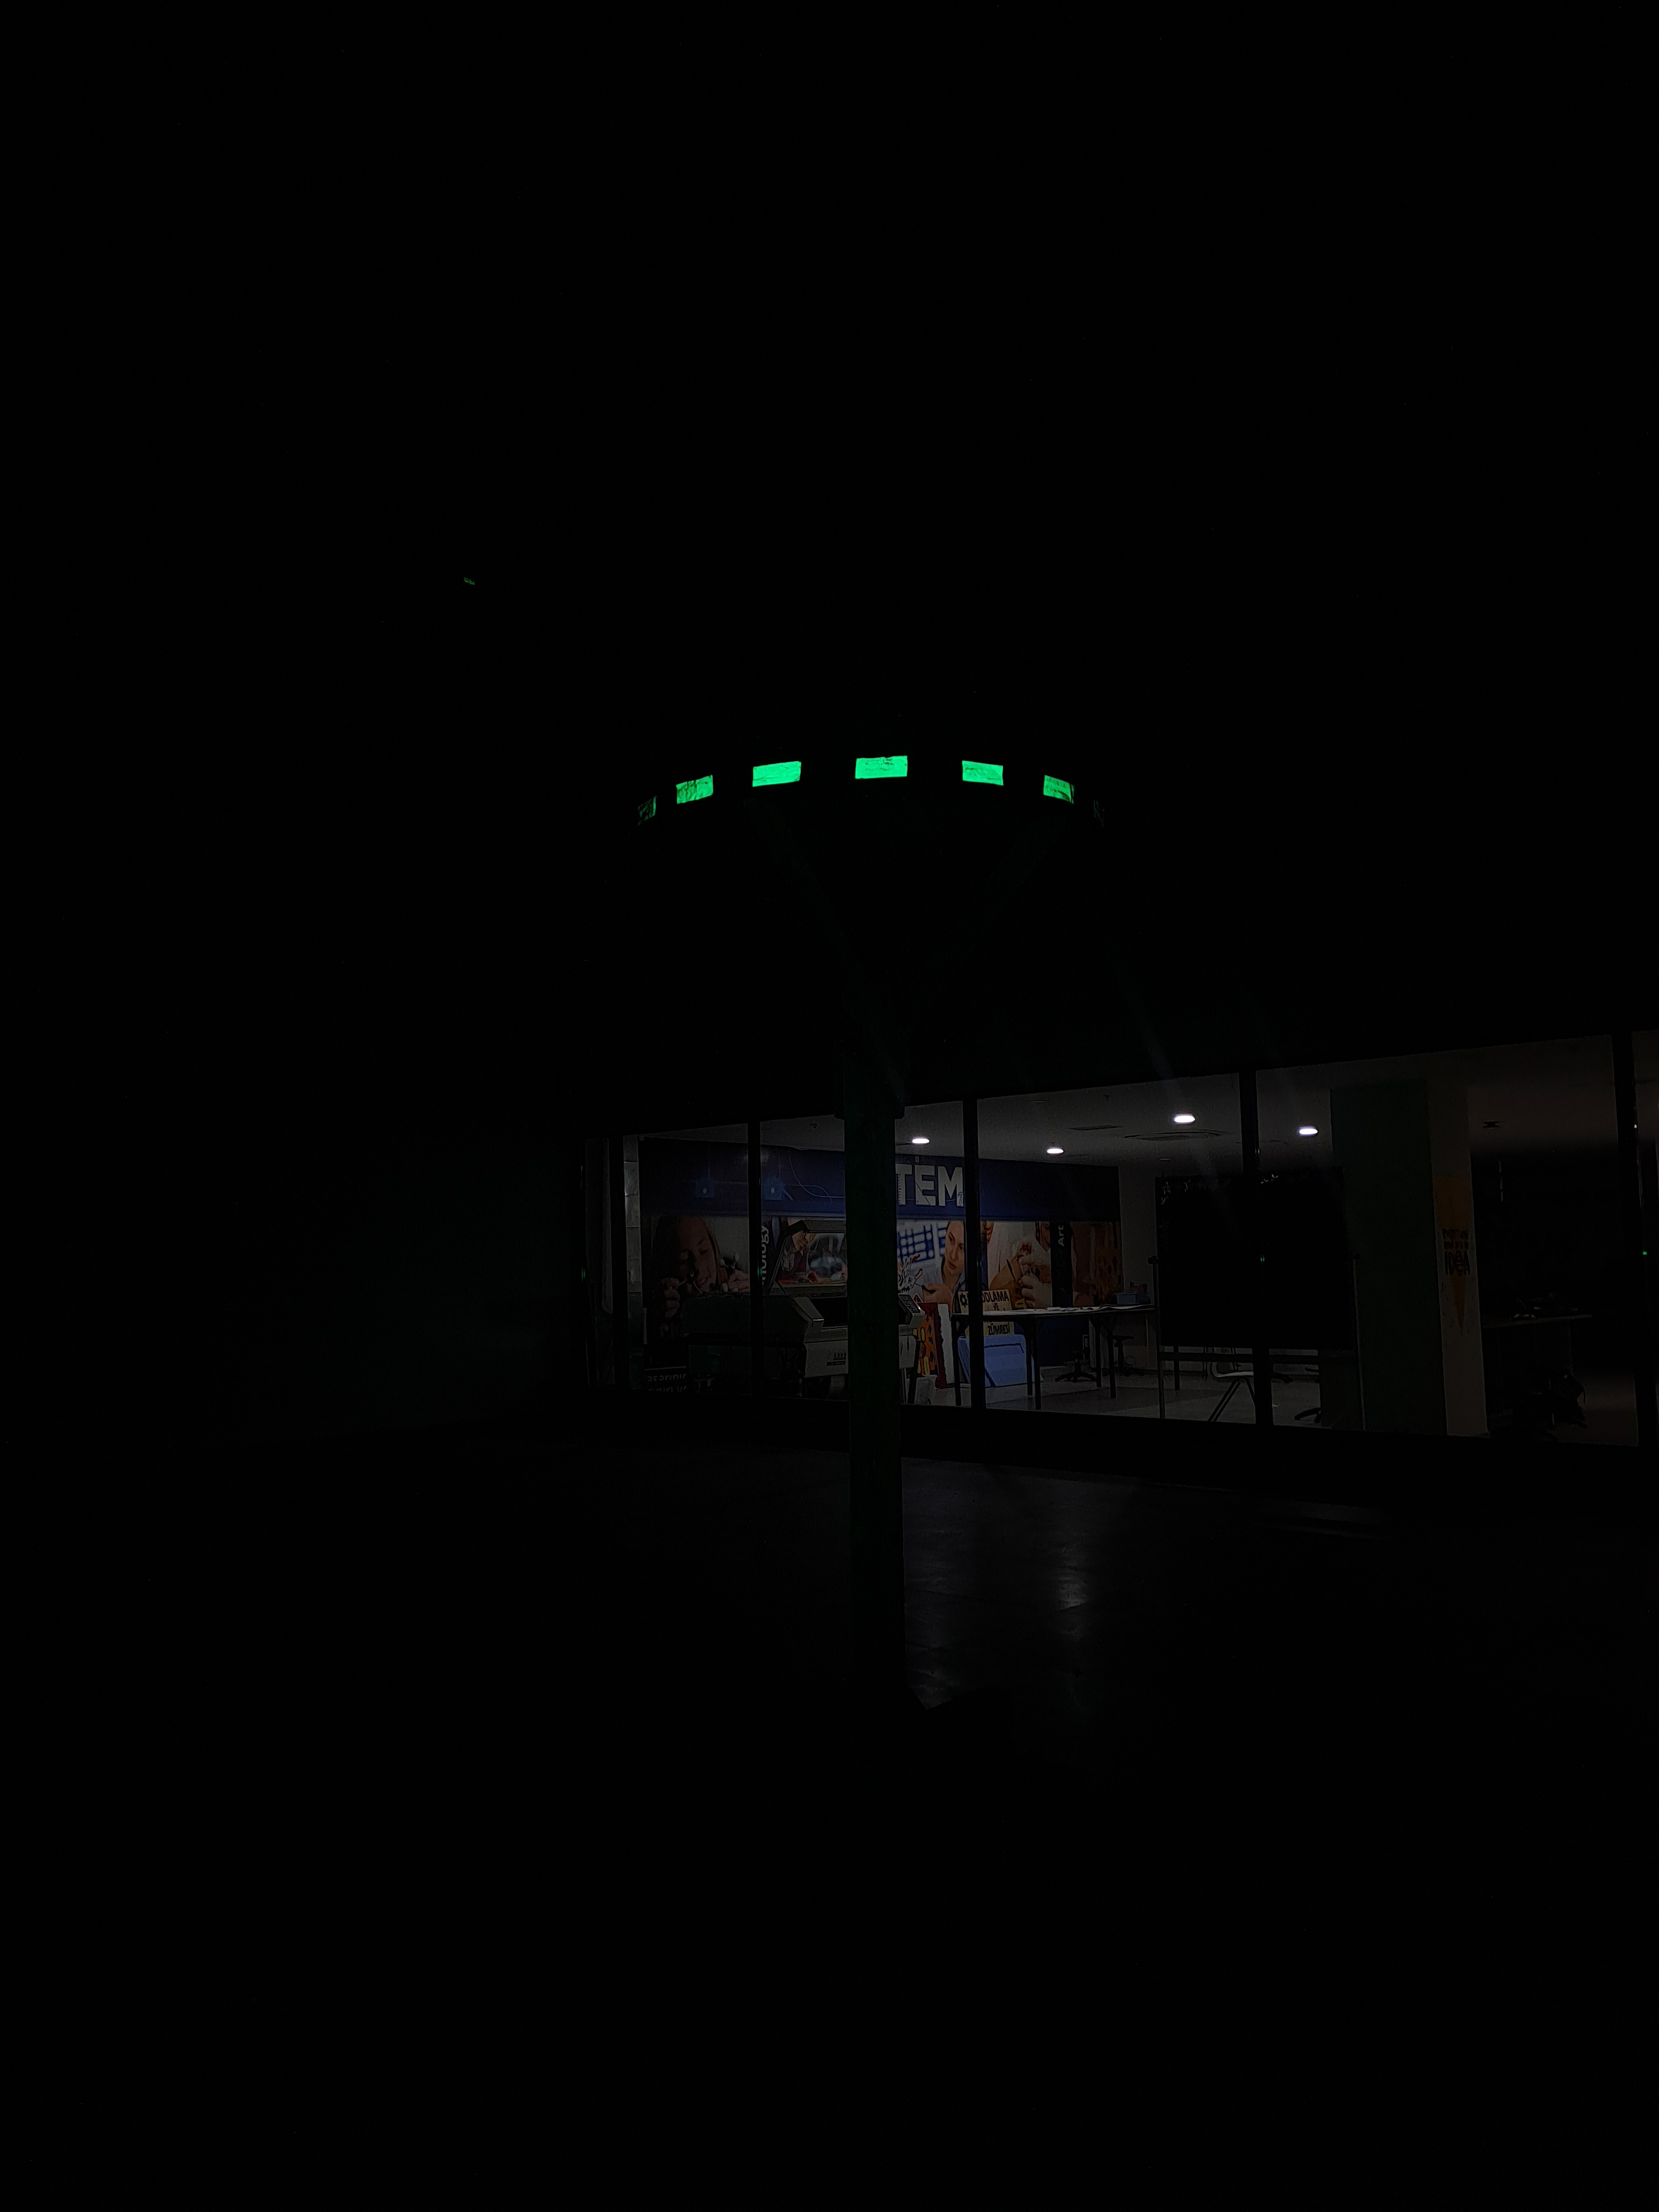hoop: (669, 752, 1077, 817)
